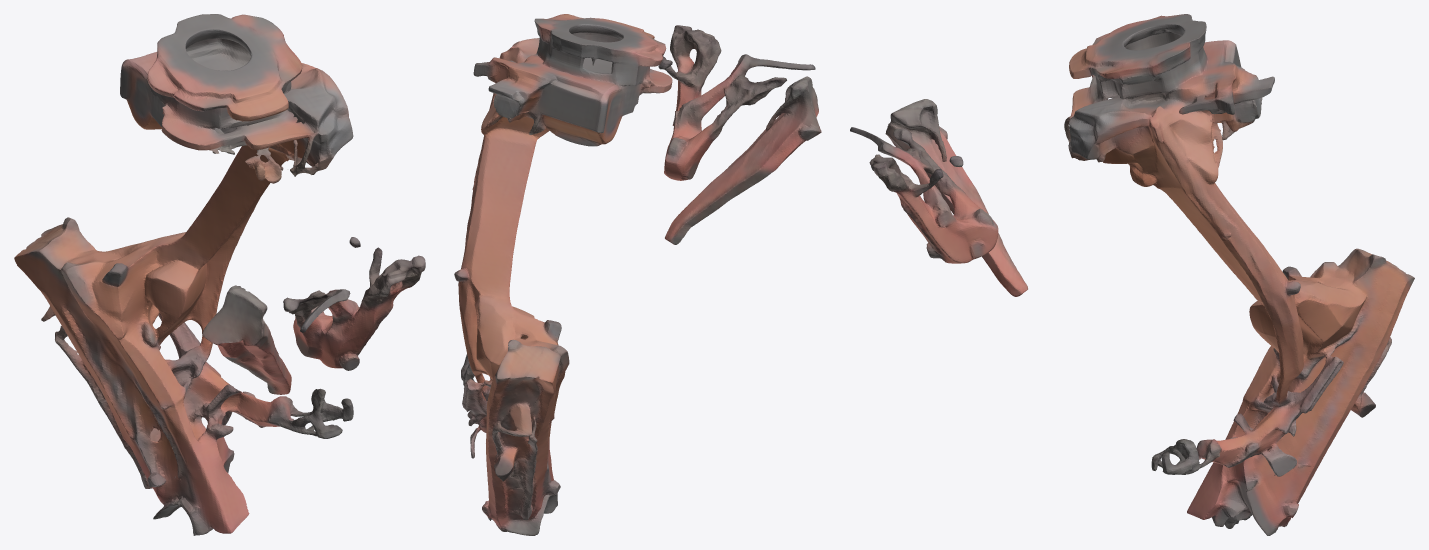
File: robot-v1.glb
The picture shows the model from 3 angles, left to right: view 1: azimuth 30°, elevation 25°; view 2: azimuth 150°, elevation 25°; view 3: azimuth 270°, elevation 25°; orthographic projection. The views are drawn at different scales.
Parts seen in each view (by area): view 1: geometry_0; view 2: geometry_0; view 3: geometry_0.
Part boxes in pixels (left/top/right/bottom): geometry_0: left=14, top=14, right=425, bottom=535; geometry_0: left=454, top=14, right=821, bottom=535; geometry_0: left=850, top=14, right=1414, bottom=535.
Bounding box in the file's own units: 2.22 × 4.08 × 4.28.
